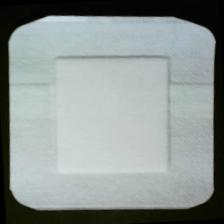Dressing: (1, 7, 224, 223)
